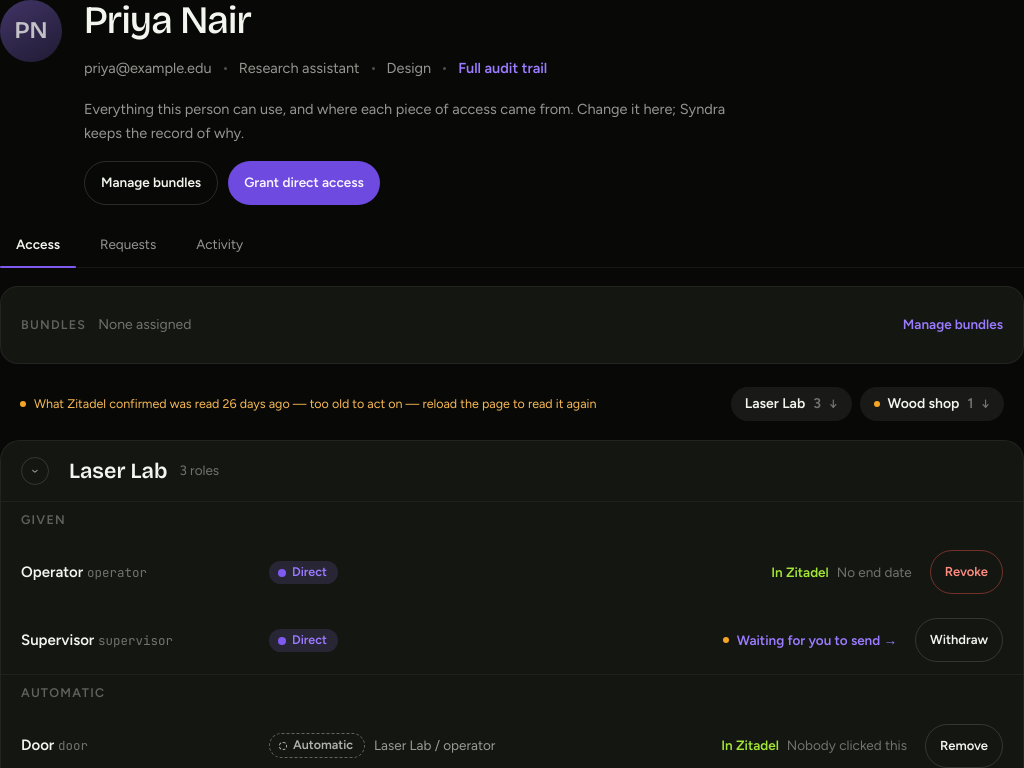
Test: the verb on each row › opens the same removal dialog the overflow used to
The image size is (1024, 768).
Click the button with aria-label "Revoke Operator" at point(966, 572), box [930,550,1003,594]
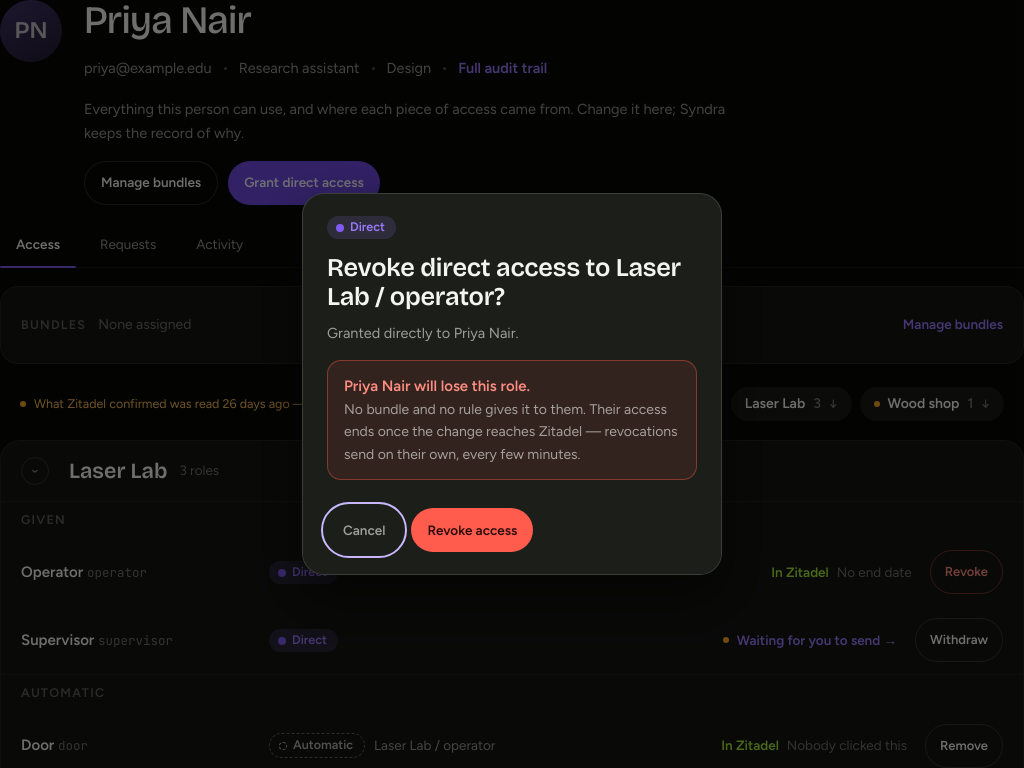
Check: the heading "Revoke direct access to Laser Lab / operator?" is shown, box [327,253,697,312]
